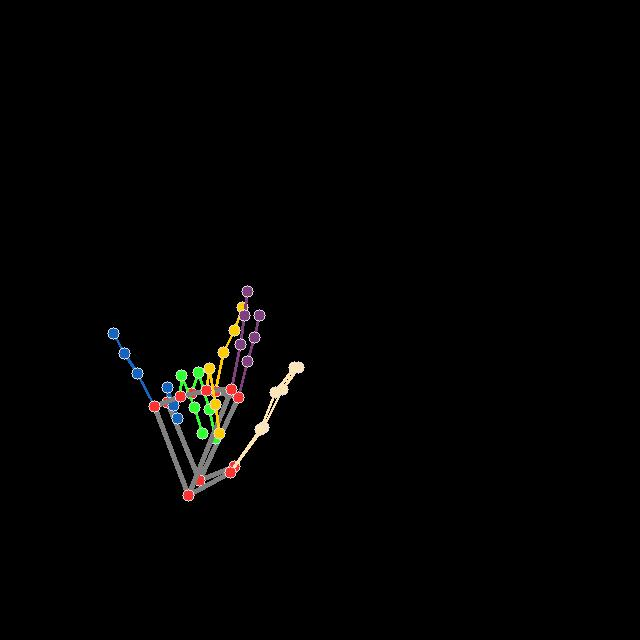spiderman: (108, 282, 304, 502)
